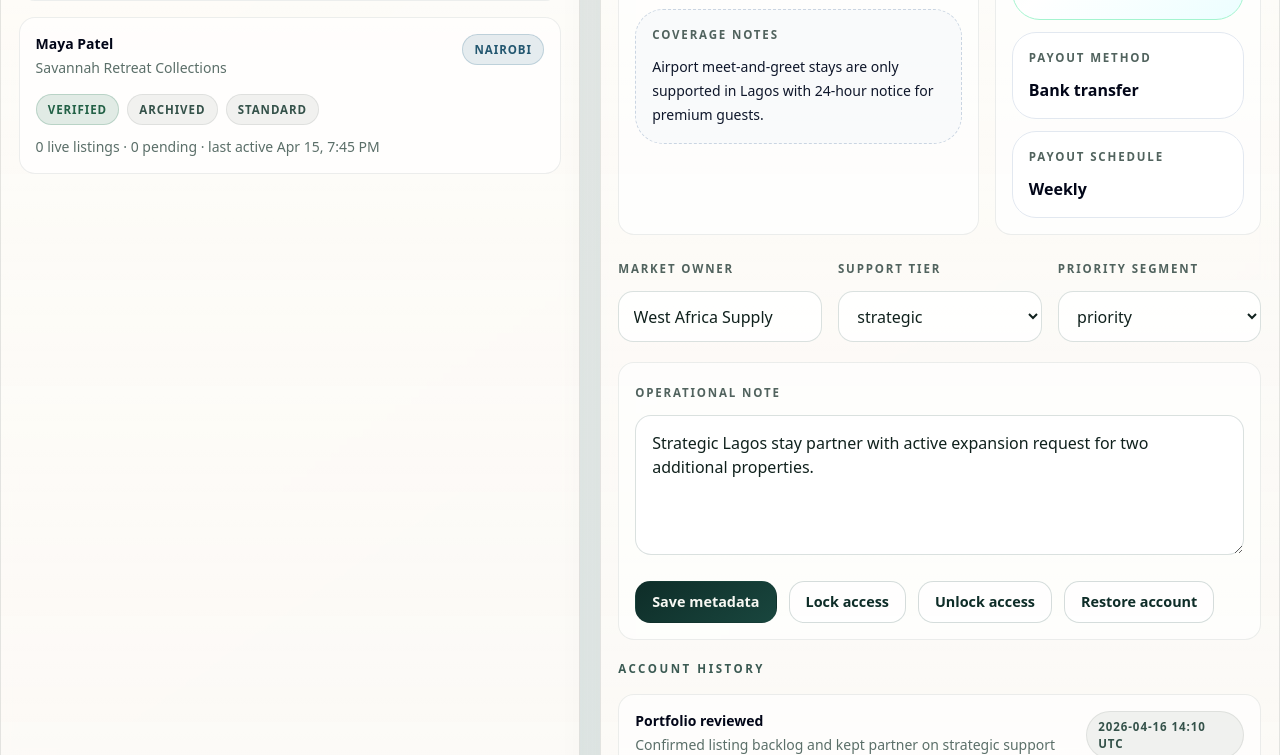
Test: PartnerOperationsWorkspace › saves metadata updates for permitted roles
(page scrolled)
Replace the text in the field showing "West Africa Supply" with "Strategic Coverage Team": (720, 317) [618,291,822,342]
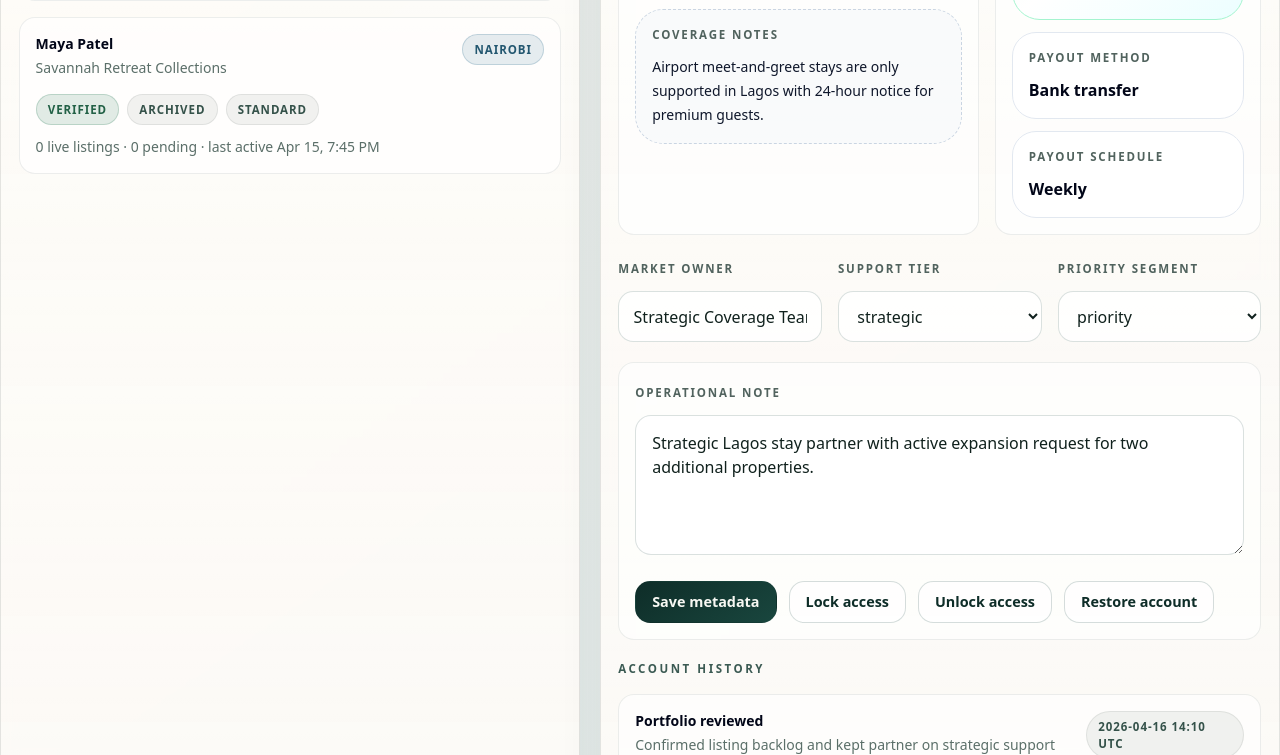
Click the button "Save metadata": click(706, 602) [635,581,777,623]
(page scrolled)
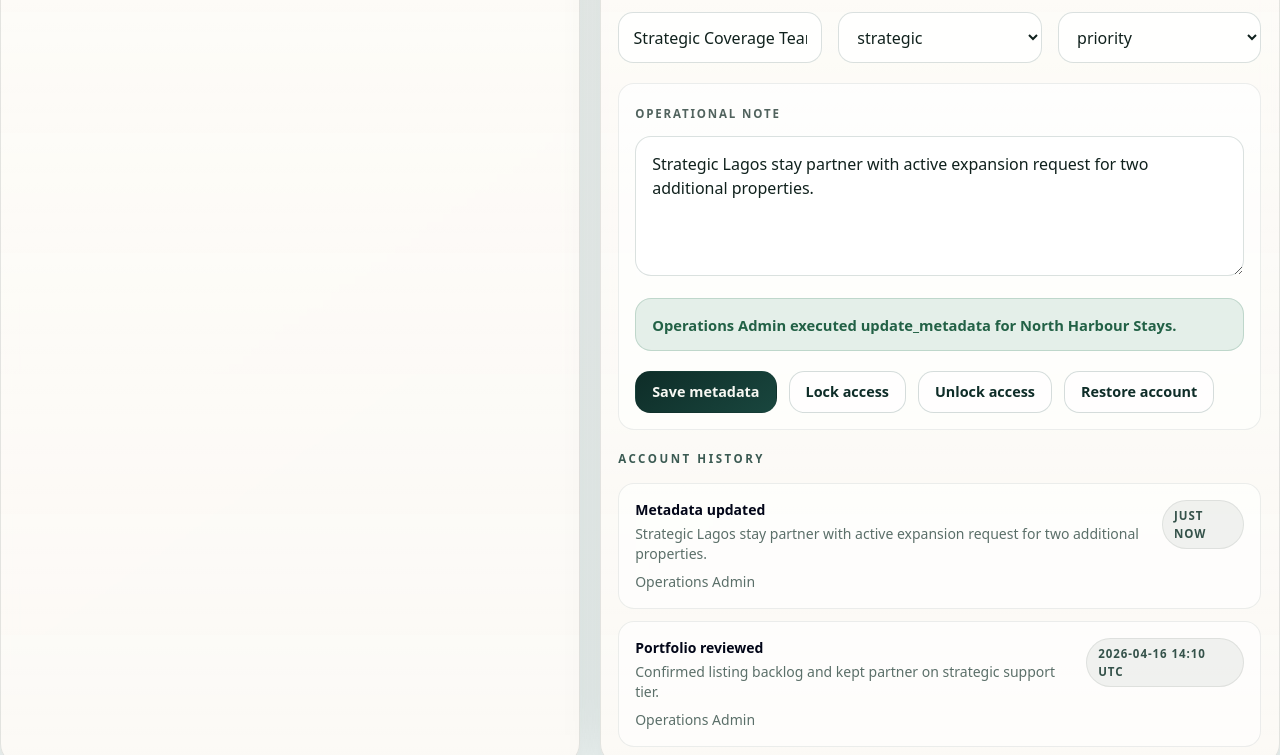
Expected: the text "executed update_metadata" is shown, [652,315,1176,335]
Expected: the text "Metadata updated" is shown, [635,500,765,519]
